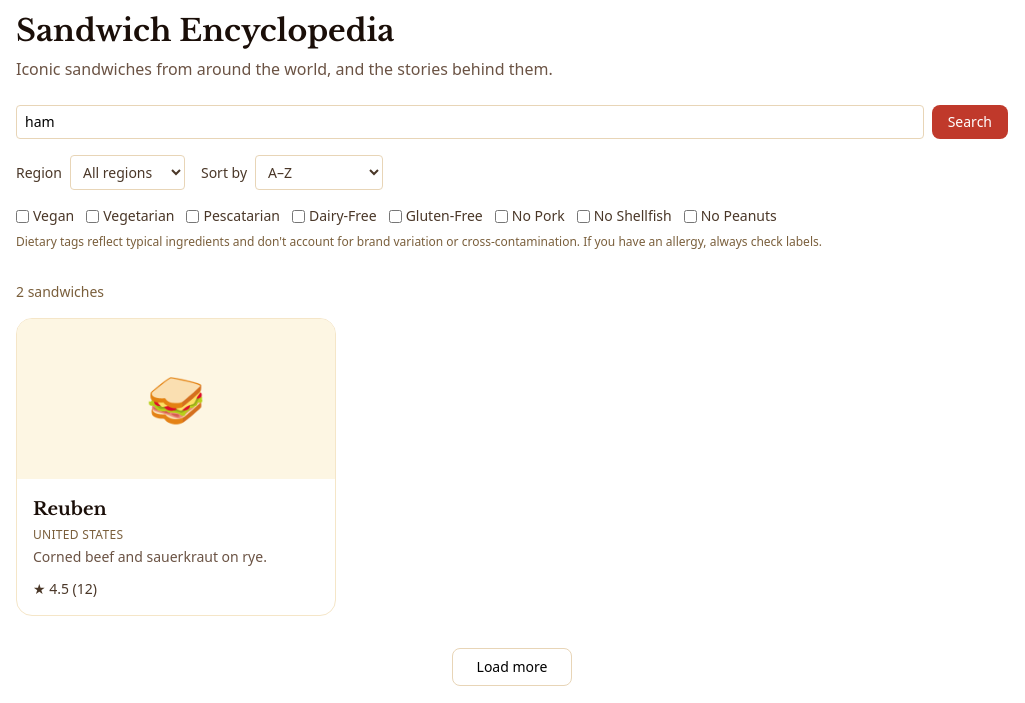
it: SandwichIndex analytics › does not record a search again when loading more results
Expected: the heading "Reuben" is shown, 33,498 -> 107,520
What coordinates should you click on to do the following:
click the button "Load more"
I would click on:
 (512, 667)
Its box is 452,648 -> 572,686.
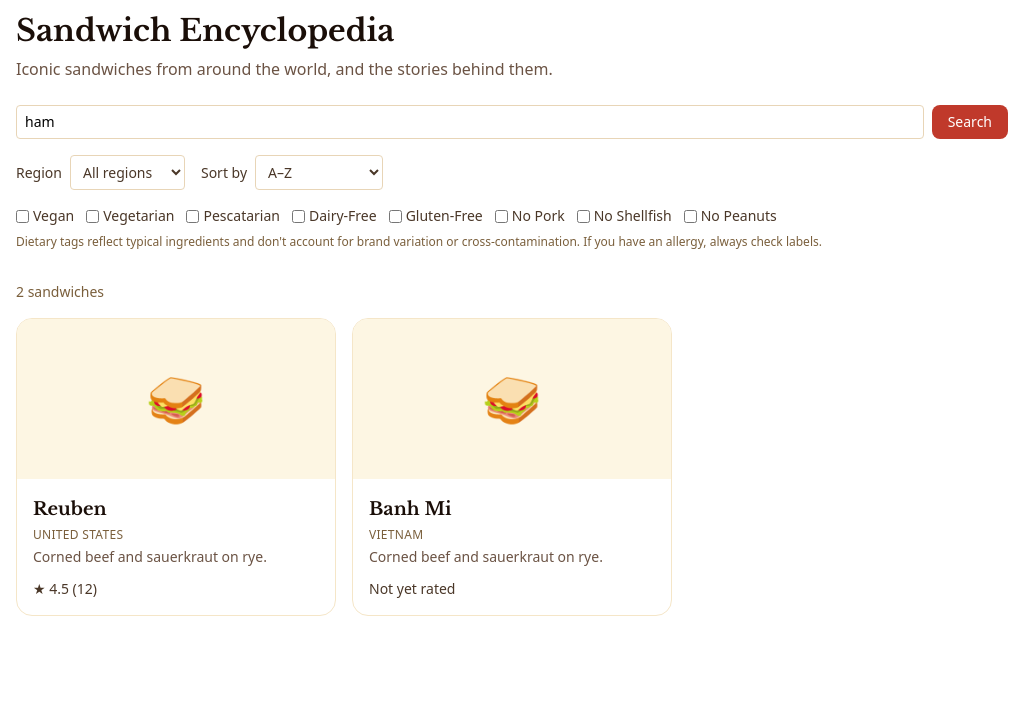
Result: the heading "Banh Mi" is shown at 369,498 -> 452,520
